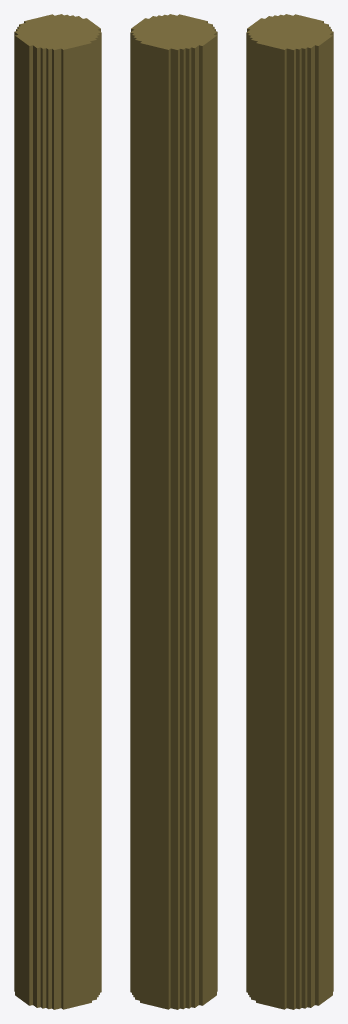
The model's file is forest1.4-121.obj.
3 views of the same model, side by side, from view 1: azimuth 30°, elevation 25°; view 2: azimuth 150°, elevation 25°; view 3: azimuth 330°, elevation 25° (orthographic).
Bounding box in the file's own units: 2 × 25.6 × 1.9.
1 material, 1 textured.
